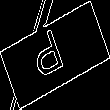P_SE: (34, 24, 76, 86)
